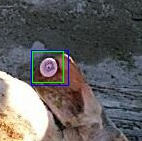text: (32, 51, 63, 82)
